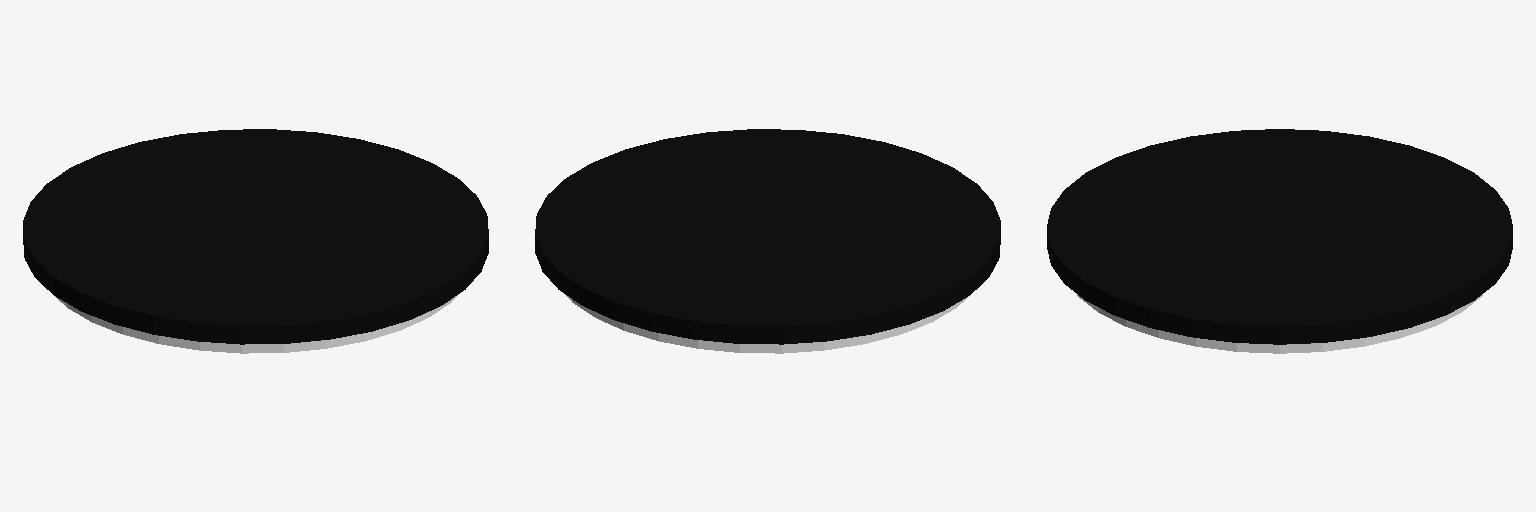
Rendered from lampa5.obj.
The picture shows the model from 3 angles: view 1: azimuth 30°, elevation 25°; view 2: azimuth 150°, elevation 25°; view 3: azimuth 270°, elevation 25°; orthographic projection.
Visible parts, largest first — view 1: Walec, Walec.001; view 2: Walec, Walec.001; view 3: Walec, Walec.001.
Part boxes in pixels (bbox=[...]): Walec: bbox=[23, 129, 488, 344]; Walec.001: bbox=[55, 294, 458, 353]; Walec: bbox=[535, 129, 1000, 344]; Walec.001: bbox=[565, 294, 968, 353]; Walec: bbox=[1047, 129, 1512, 344]; Walec.001: bbox=[1076, 293, 1483, 353].
Size of the model in its own units: 0.8647 by 0.1163 by 0.8647.